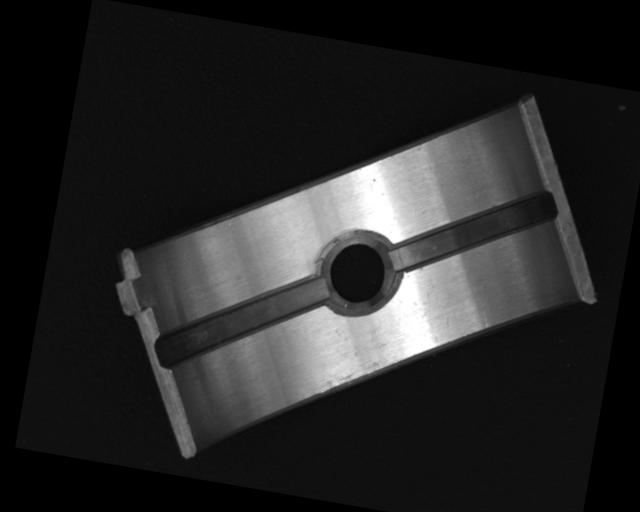gap: (152, 251, 329, 396), (387, 166, 558, 294)
hole: (320, 223, 398, 315)
